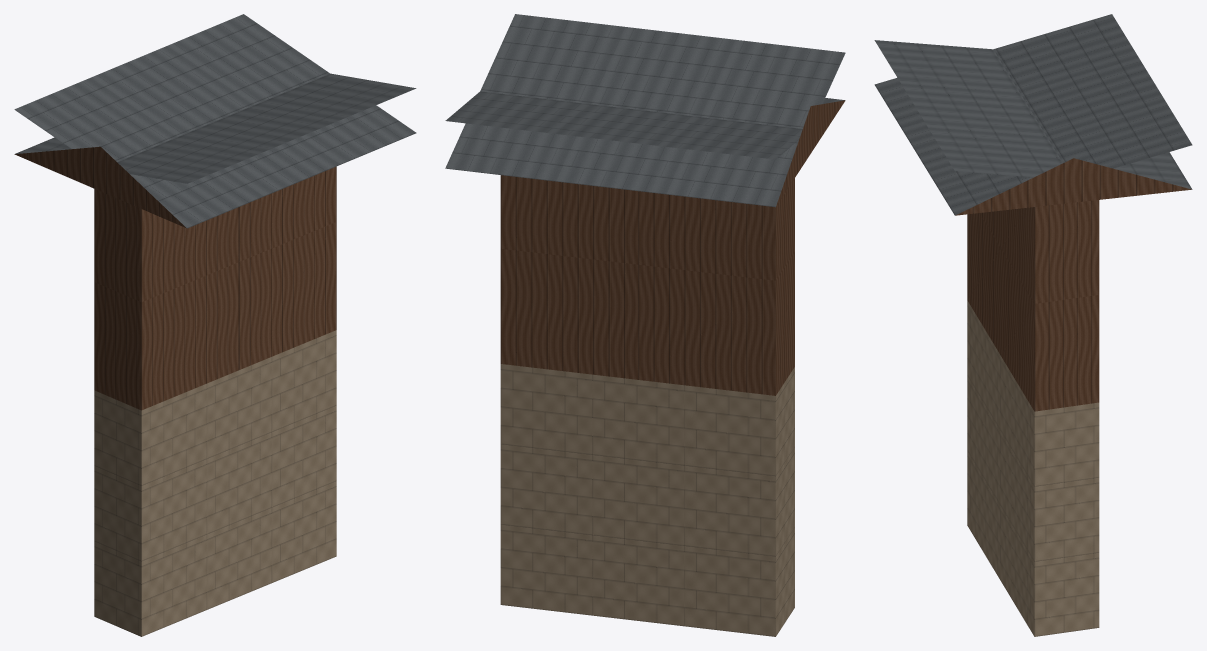
Rendered from bld_c34_-40_441.gltf.
3 views of the same model, side by side, from view 1: azimuth 30°, elevation 25°; view 2: azimuth 150°, elevation 25°; view 3: azimuth 270°, elevation 25° (orthographic). The views are drawn at different scales.
Visible parts, largest first — view 1: bld_c34_-40_441; view 2: bld_c34_-40_441; view 3: bld_c34_-40_441.
Boxes of the visible parts, x1,y1,x2,y2 form: bld_c34_-40_441: (14, 14, 416, 636); bld_c34_-40_441: (445, 14, 845, 636); bld_c34_-40_441: (874, 14, 1192, 636).
Size of the model in its own units: 7.57 by 10.9 by 6.48.
4 materials, 4 textured.
